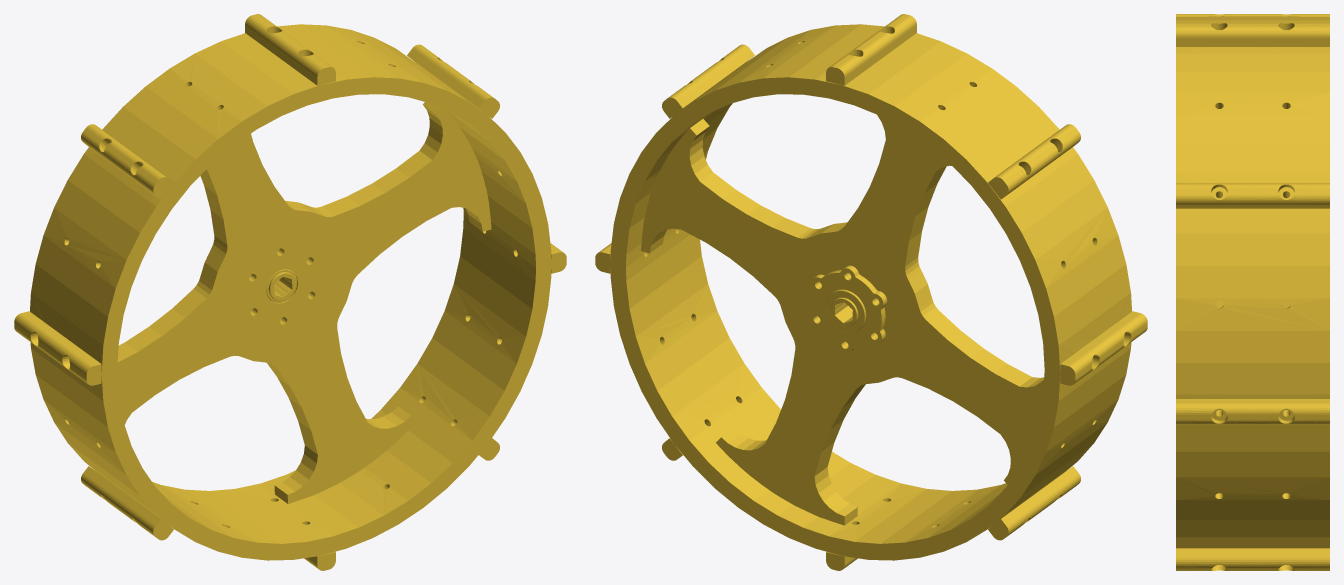
The model's file is wheel_right.dae.
The picture shows the model from 3 angles, left to right: view 1: azimuth 30°, elevation 25°; view 2: azimuth 150°, elevation 25°; view 3: azimuth 270°, elevation 25°; orthographic projection. The views are drawn at different scales.
Visible parts, largest first — view 1: wheel; view 2: wheel; view 3: wheel.
Part boxes in pixels (bbox=[...]): wheel: bbox=[14, 14, 566, 570]; wheel: bbox=[595, 14, 1147, 570]; wheel: bbox=[1176, 14, 1329, 570].
Size of the model in its own units: 0.3448 by 0.09 by 0.3448.
